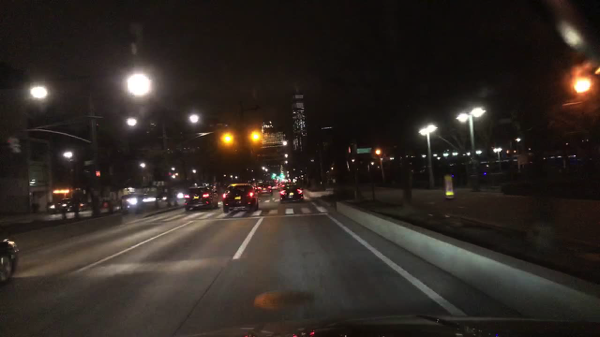car: (222, 183, 259, 214), (184, 183, 218, 212), (1, 237, 21, 284), (121, 191, 156, 206), (279, 184, 305, 203), (250, 179, 274, 197), (161, 191, 184, 203), (268, 179, 278, 191), (278, 181, 286, 188)
traffic light: (7, 138, 17, 154), (225, 132, 231, 145), (253, 128, 258, 143), (95, 171, 100, 176), (272, 173, 276, 177)
traffic sign: (356, 148, 371, 154)
